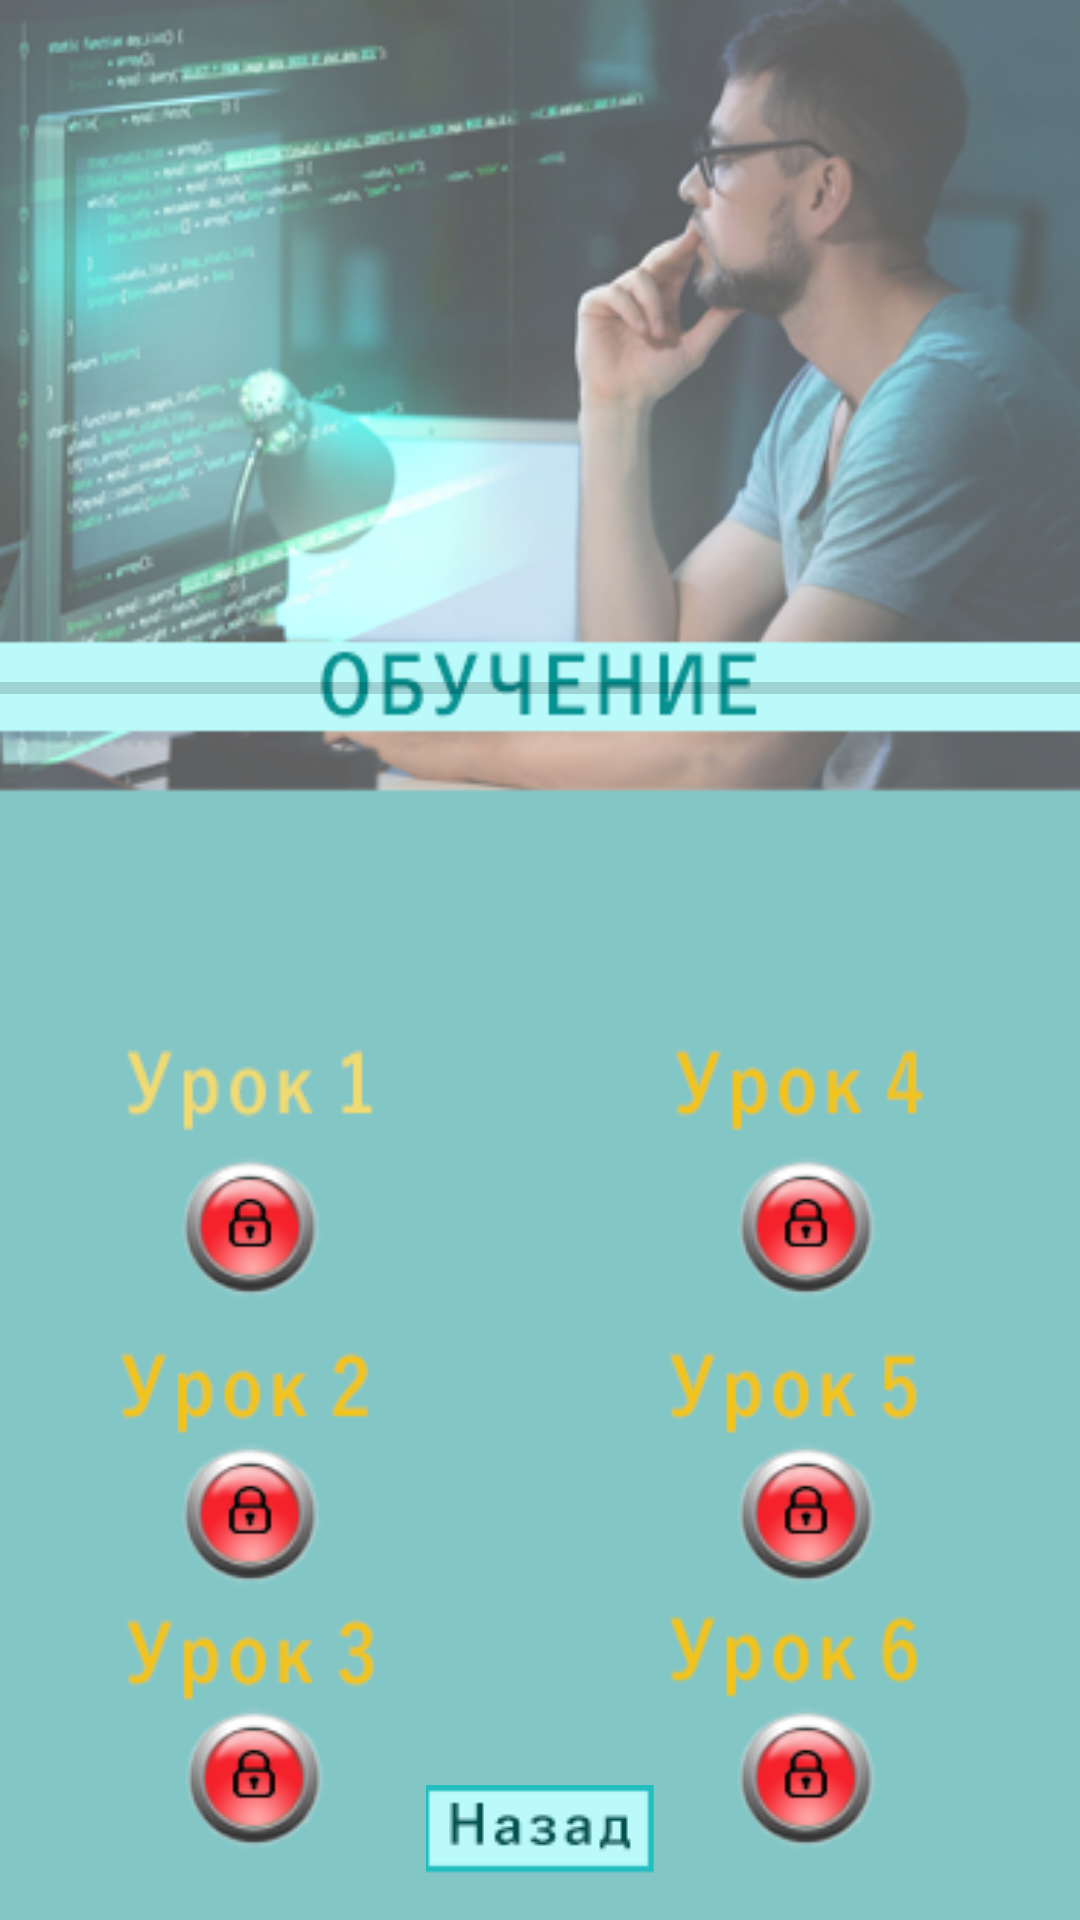

Point at icon controls on the screen. Image size 1080x1920, points as (x=x, y=y).
buttonred: (x=251, y=1227), (x=807, y=1227), (x=251, y=1514), (x=807, y=1514), (x=255, y=1778), (x=807, y=1778)
